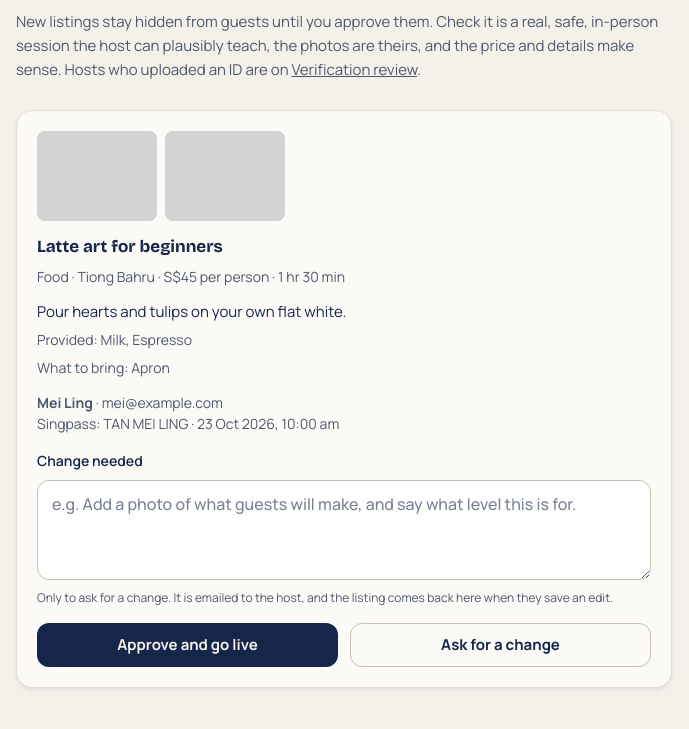
AdminListings › needs a note before asking for a change
(page scrolled)
Expected: the text "Latte art for beginners" is shown, [37,236,223,257]
What coordinates should you click on to do the following:
click the button "Ask for a change"
I would click on:
 (500, 645)
Its box is [350,623,651,667].
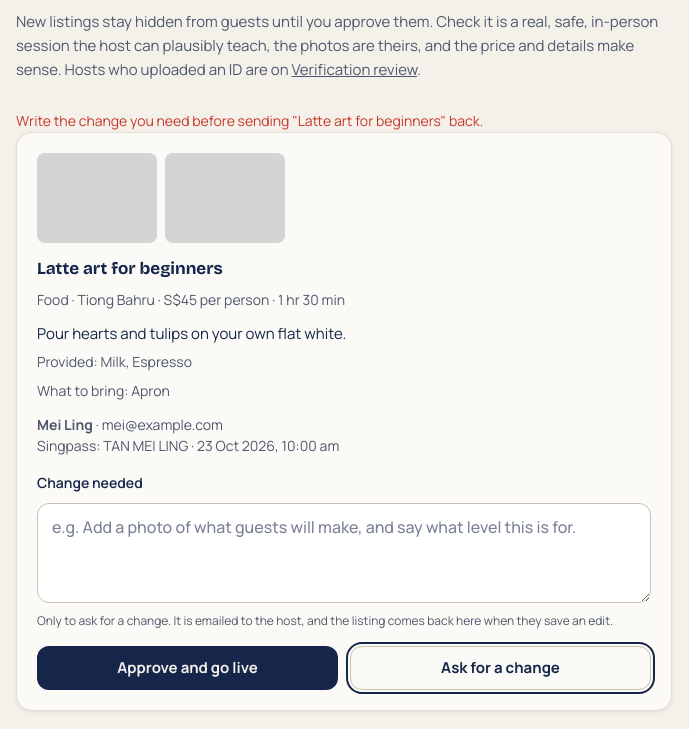
Expected: the text "Write the change you need before sending \"Latte art for beginners\" back." is shown, [16,111,483,130]
